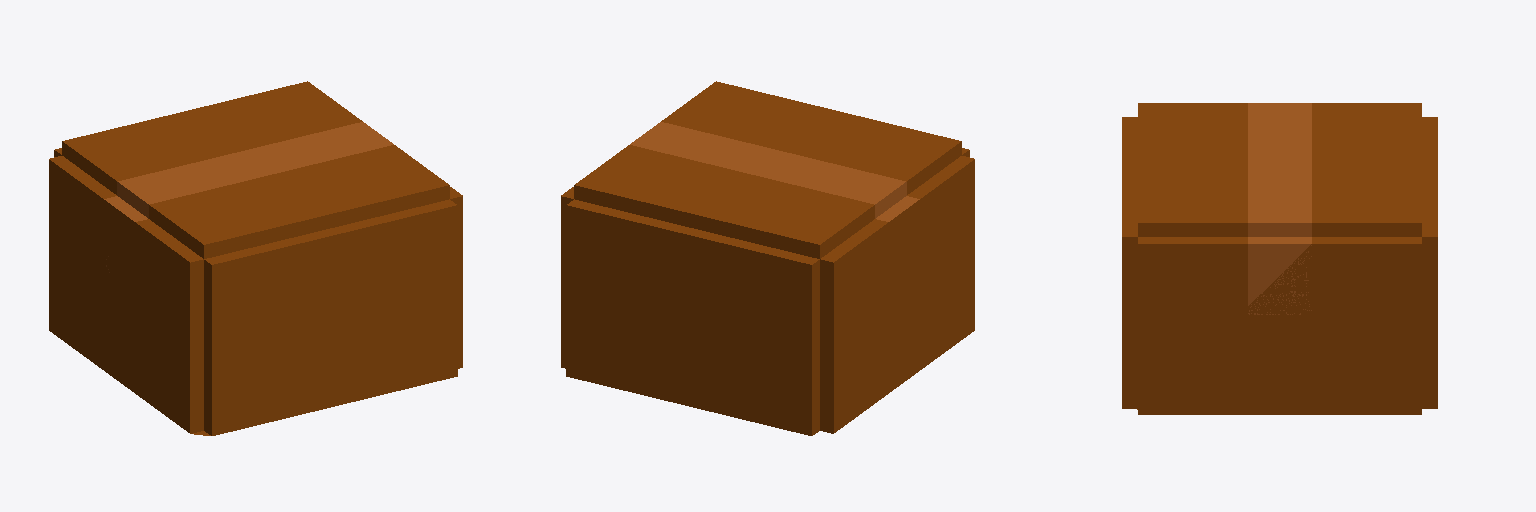
File: Kiste.obj
The picture shows the model from 3 angles: view 1: azimuth 30°, elevation 25°; view 2: azimuth 150°, elevation 25°; view 3: azimuth 270°, elevation 25°; orthographic projection.
Visible parts, largest first — view 1: Kiste; view 2: Kiste; view 3: Kiste.
Part boxes in pixels (x1,y1,x2,y2): Kiste: (49,81,462,435); Kiste: (561,81,974,435); Kiste: (1122,103,1437,414).
Bounding box in the file's own units: 1.25 × 0.8125 × 1.25.